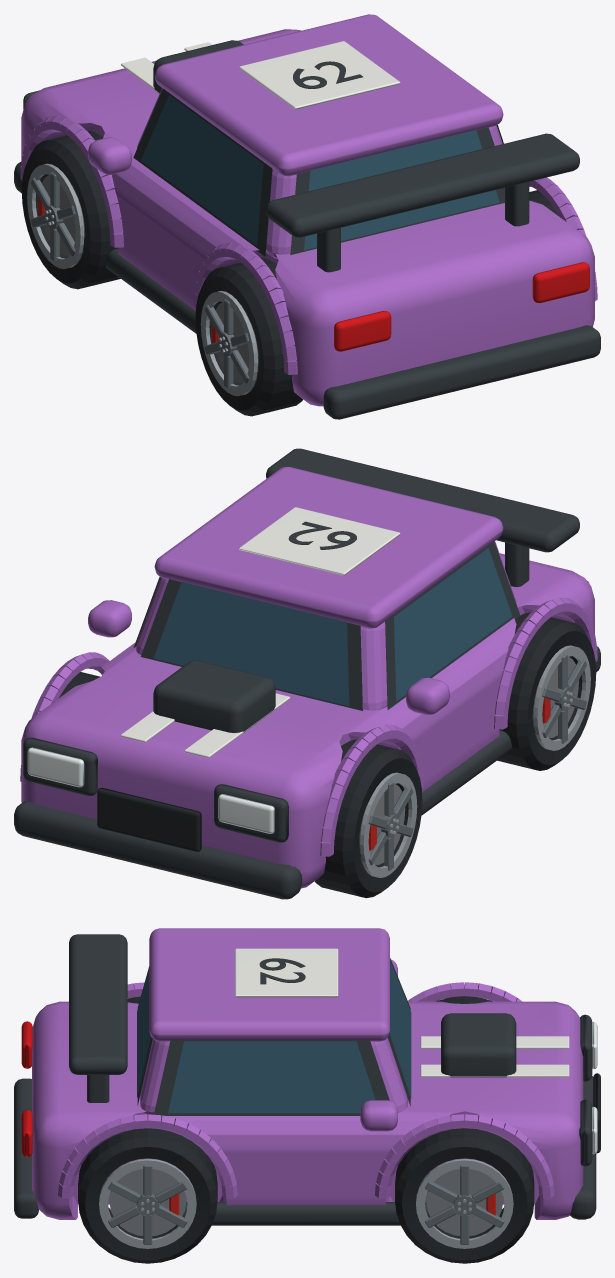
File: car_muscle.glb
3 renders of one model, top to bottom at view 1: azimuth 30°, elevation 25°; view 2: azimuth 150°, elevation 25°; view 3: azimuth 270°, elevation 25°, orthographic. The views are drawn at different scales.
Parts seen in each view (by area): view 1: Body.006, WheelMesh.026, WheelMesh.024; view 2: Body.006, WheelMesh.024, WheelMesh.026; view 3: Body.006, WheelMesh.025, WheelMesh.027.
Part boxes in pixels (x1=…): Body.006: x1=14, y1=14, x2=600, y2=419; WheelMesh.026: x1=195, y1=257, x2=302, y2=416; WheelMesh.024: x1=21, y1=130, x2=120, y2=289; Body.006: x1=14, y1=448, x2=600, y2=899; WheelMesh.024: x1=315, y1=739, x2=422, y2=898; WheelMesh.026: x1=497, y1=612, x2=596, y2=770; Body.006: x1=14, y1=928, x2=600, y2=1225; WheelMesh.025: x1=395, y1=1128, x2=534, y2=1263; WheelMesh.027: x1=78, y1=1128, x2=217, y2=1263.
Size of the model in its own units: 2.64 by 1.76 by 4.21.
